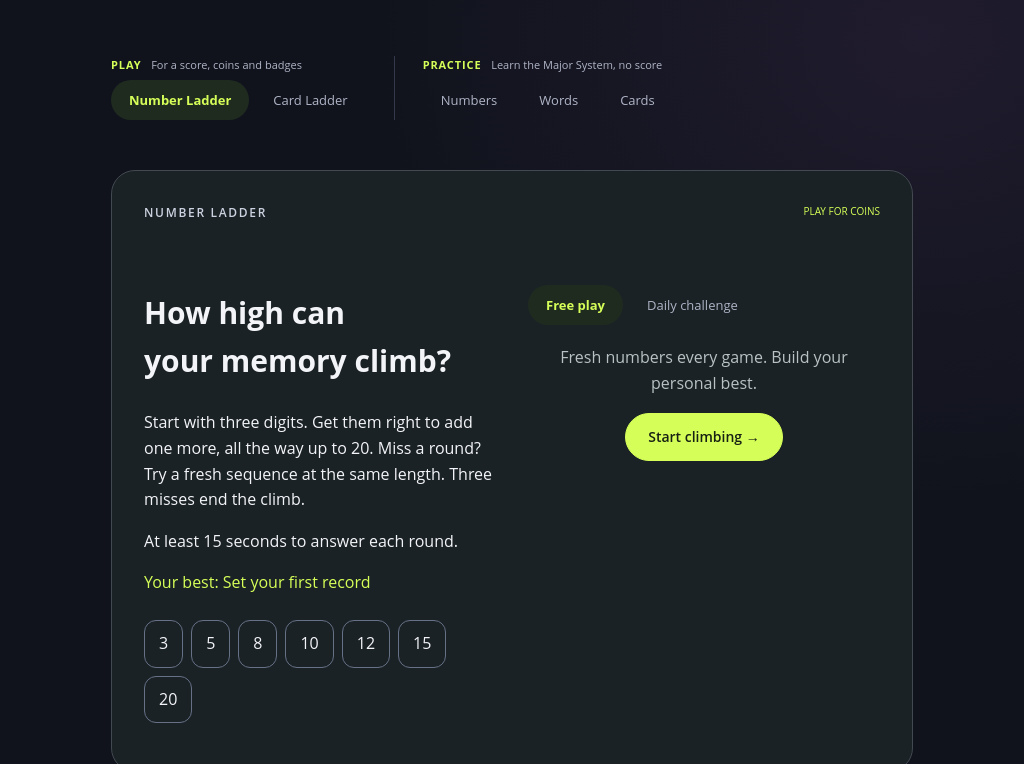
it: the number lab reveals words and saves a favorite to the account
What coordinates should you click on to do the following:
click the button "Numbers"
I would click on:
 (469, 100)
Its box is x1=423 y1=80 x2=515 y2=120.
(page scrolled)
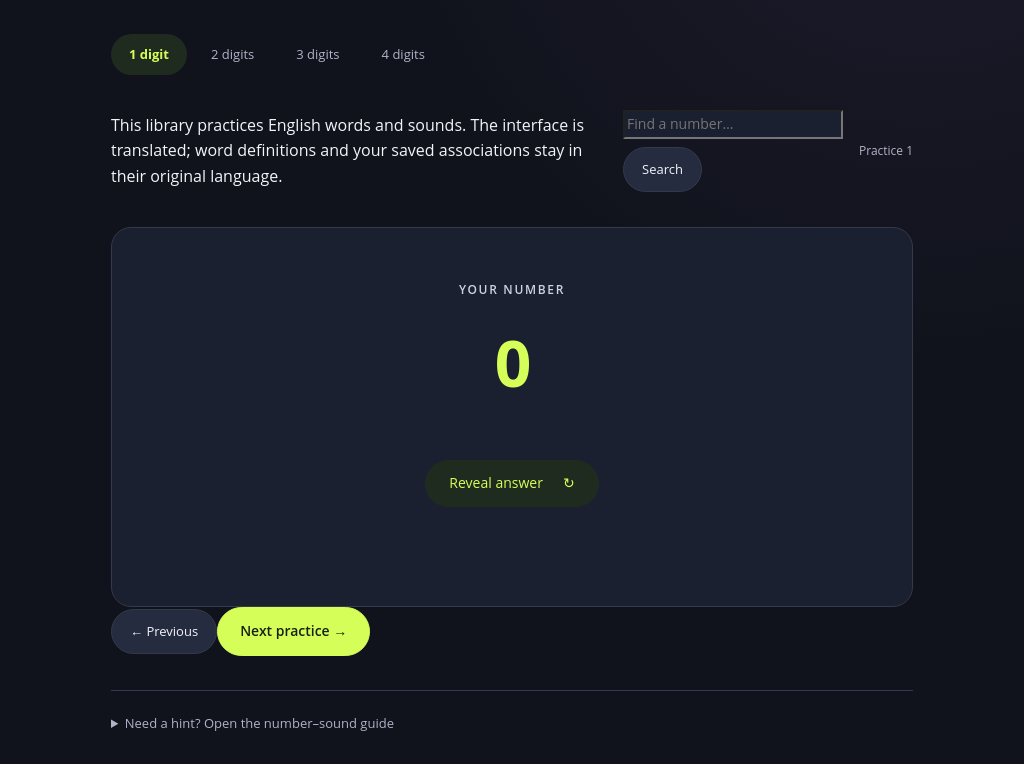
Expected: the heading "0" is shown, x1=495 y1=319 x2=529 y2=406
What coordinates should you click on to do the following:
click the button "Reveal answer ↻"
I would click on:
 (512, 484)
Its box is x1=425 y1=460 x2=599 y2=507.
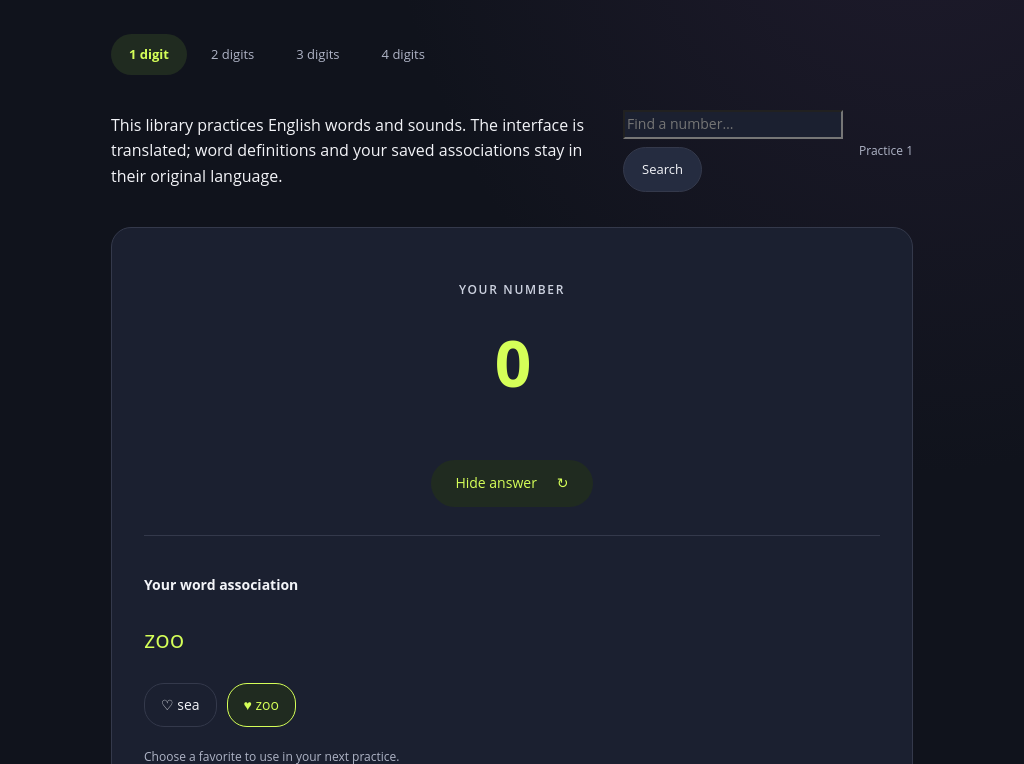
Expected: the text "zoo" is shown, x1=144 y1=622 x2=184 y2=655
What coordinates should you click on to do the following:
click the button "♡ sea"
I would click on:
 (180, 705)
Its box is x1=144 y1=682 x2=216 y2=727.
(page scrolled)
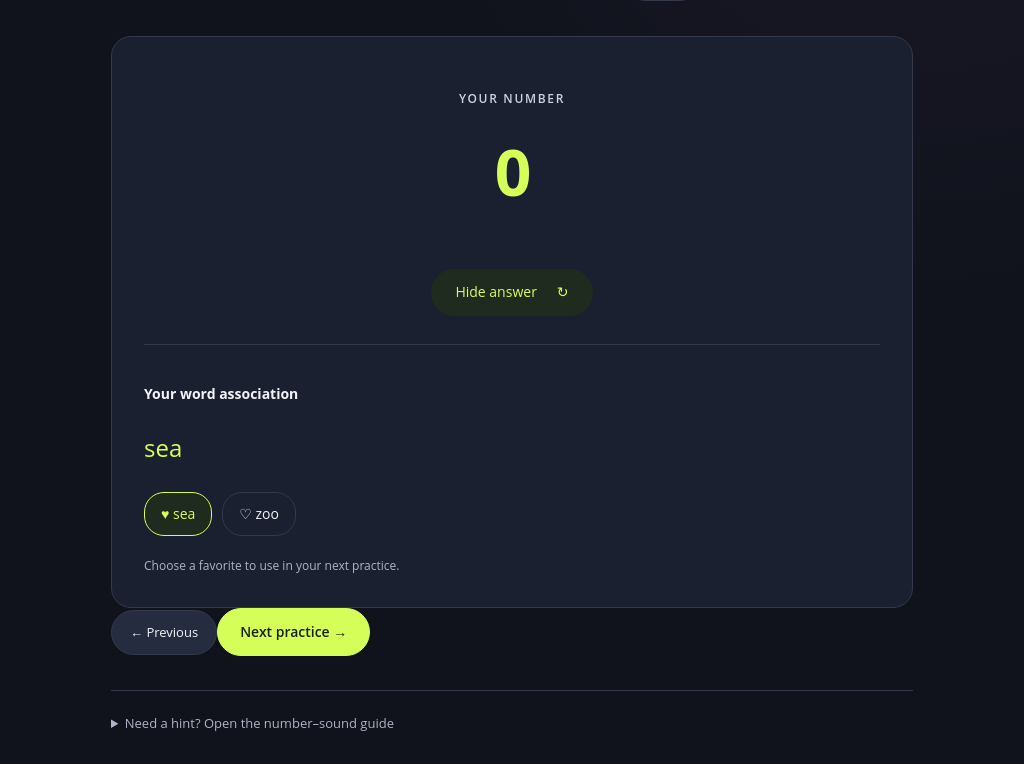
What coordinates should you click on to do the following:
click the button "Next practice →"
I would click on:
 (294, 632)
Its box is x1=217 y1=608 x2=370 y2=656.
(page scrolled)
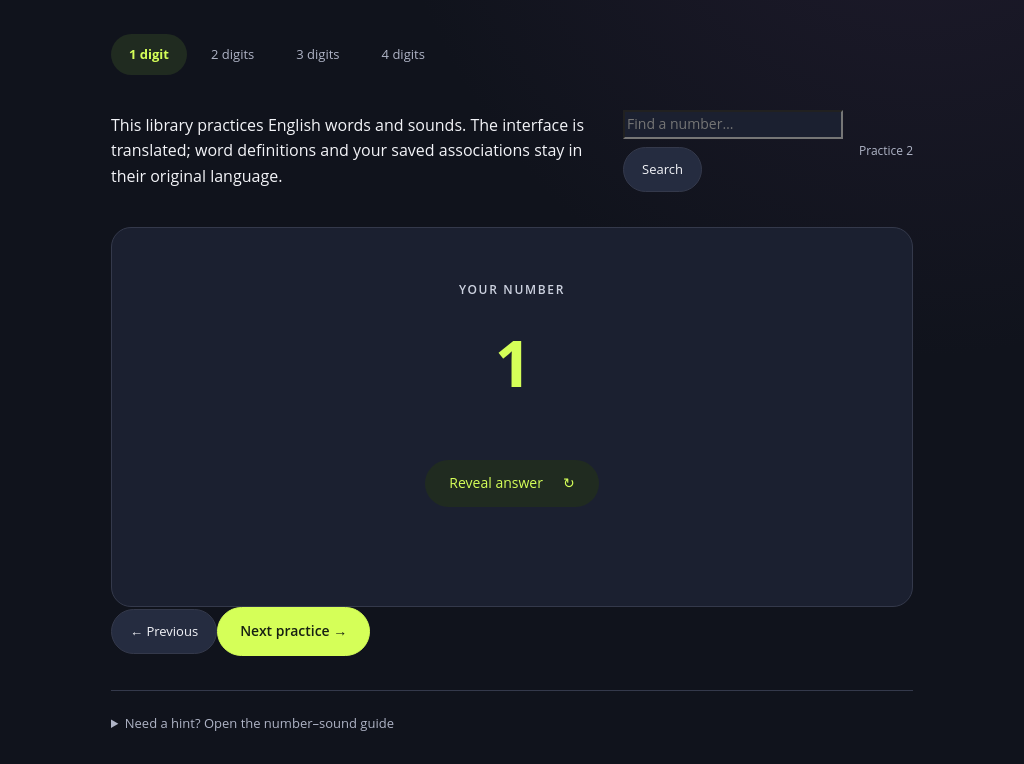
Expected: the heading "1" is shown, x1=495 y1=319 x2=529 y2=406
